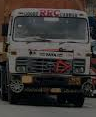truck: (1, 1, 92, 111)
